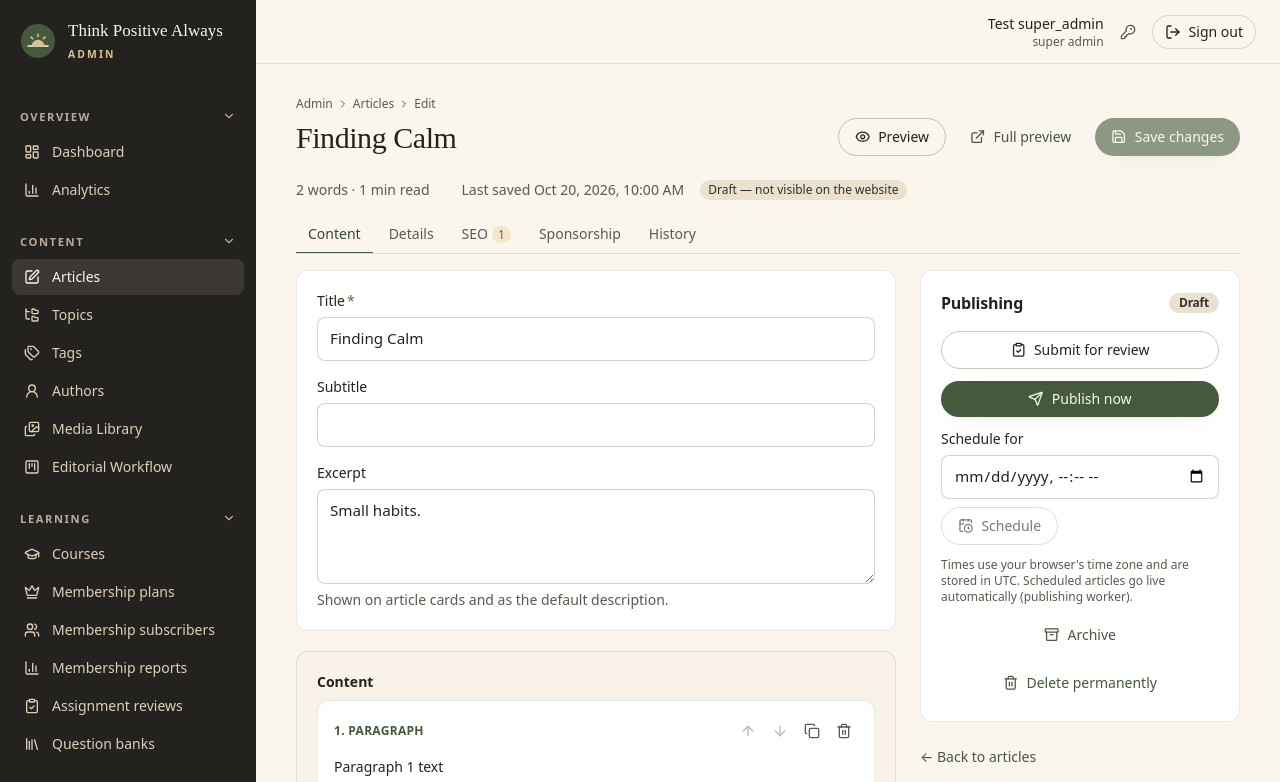
Scenario: article editor sections › selects a featured image from the media library
The width and height of the screenshot is (1280, 782).
Later steps or results of the test are not shown.
Click the tab "Details" at (411, 235), box [377,216,446,254]
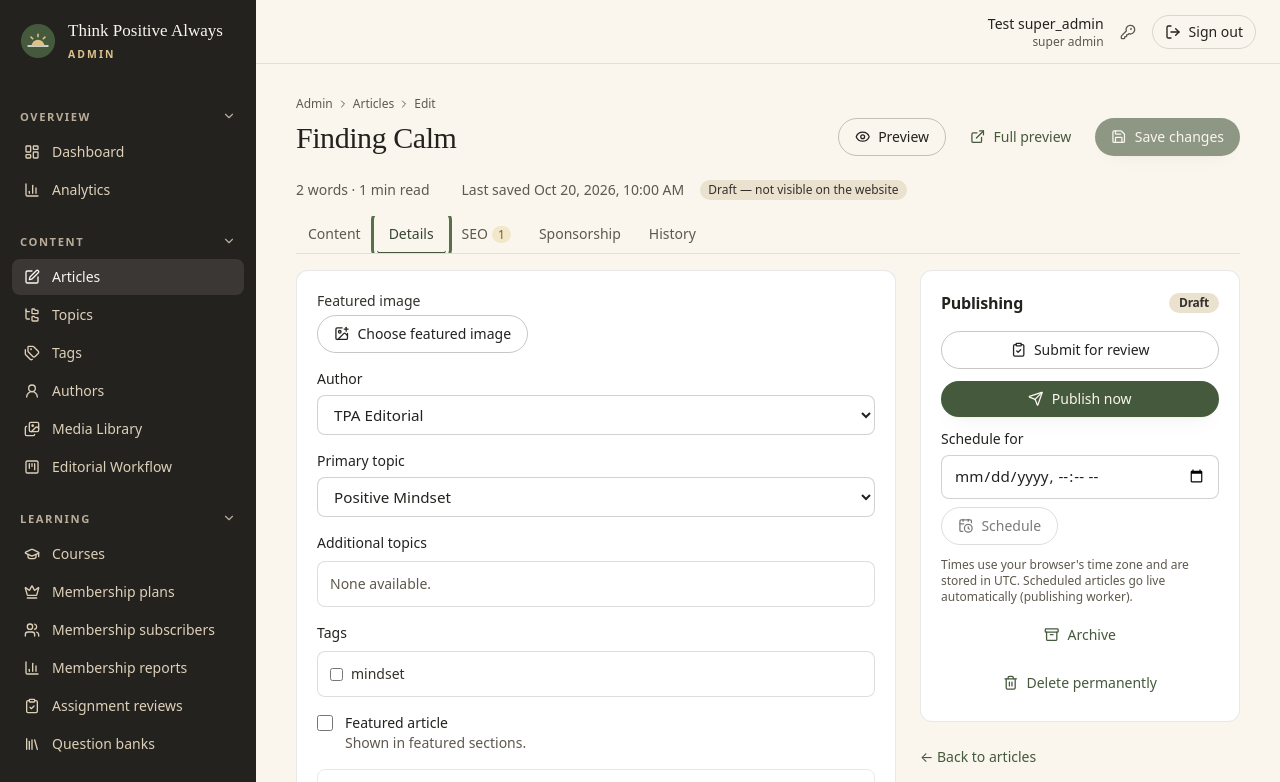
Click the button "Choose featured image" at (423, 334), box [317,315,528,353]
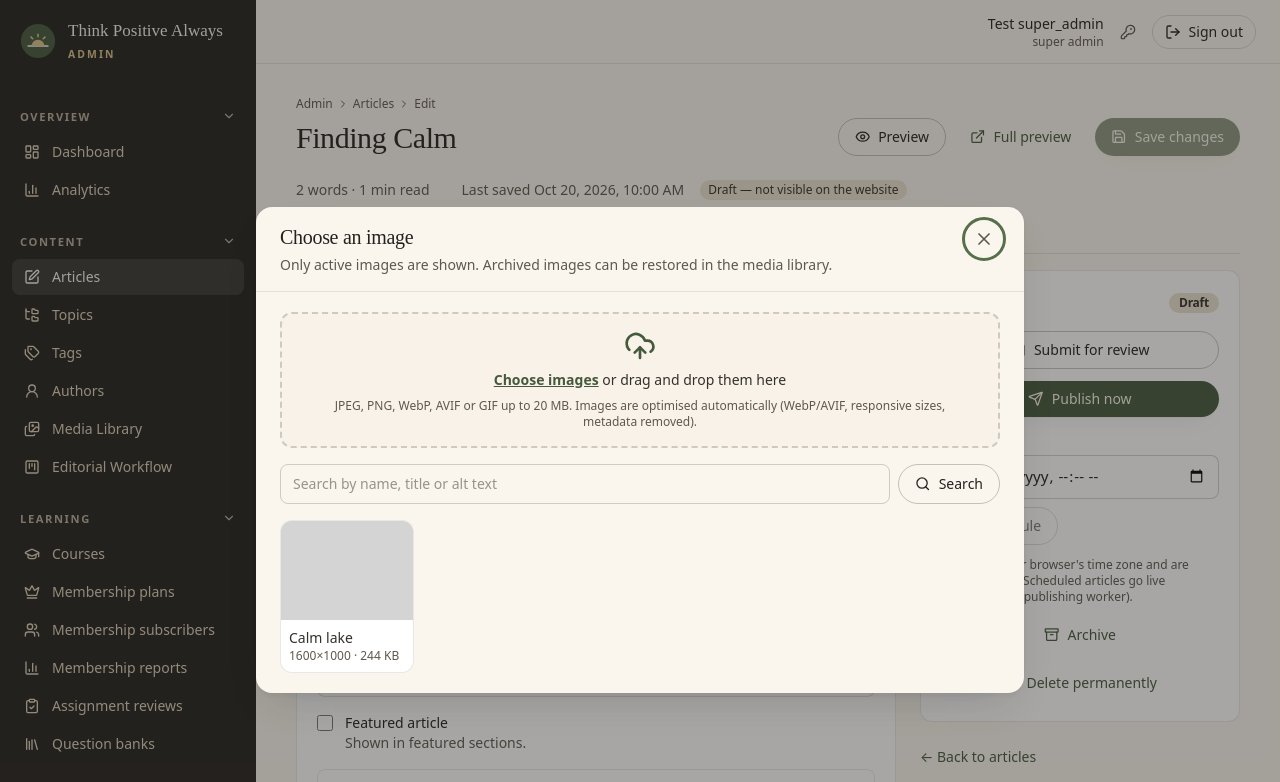
Click the button with aria-label "Select Calm lake" at (347, 597), box [280,520,414,673]
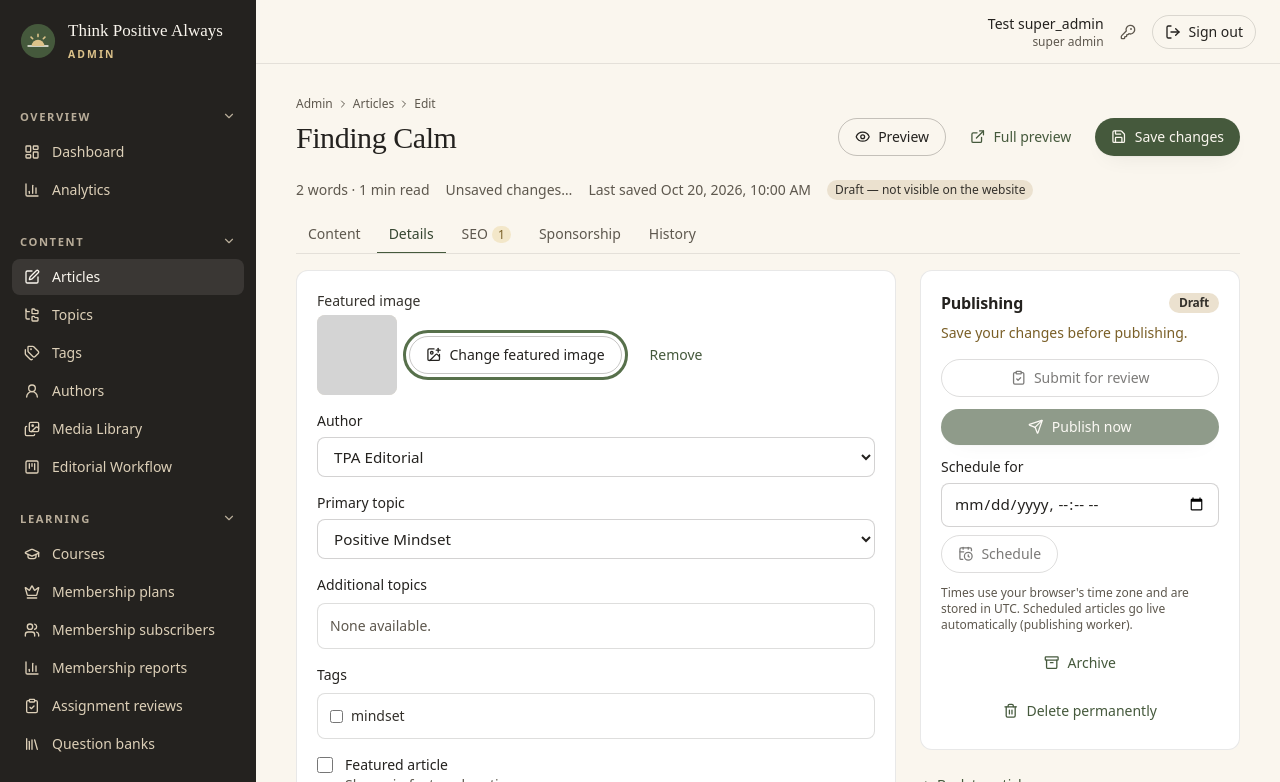
Expected: the heading "Choose an image" is gone
